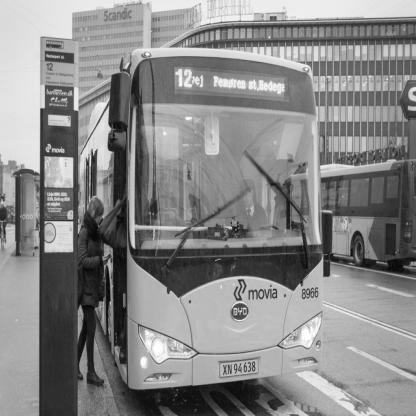bus: (61, 54, 346, 405)
